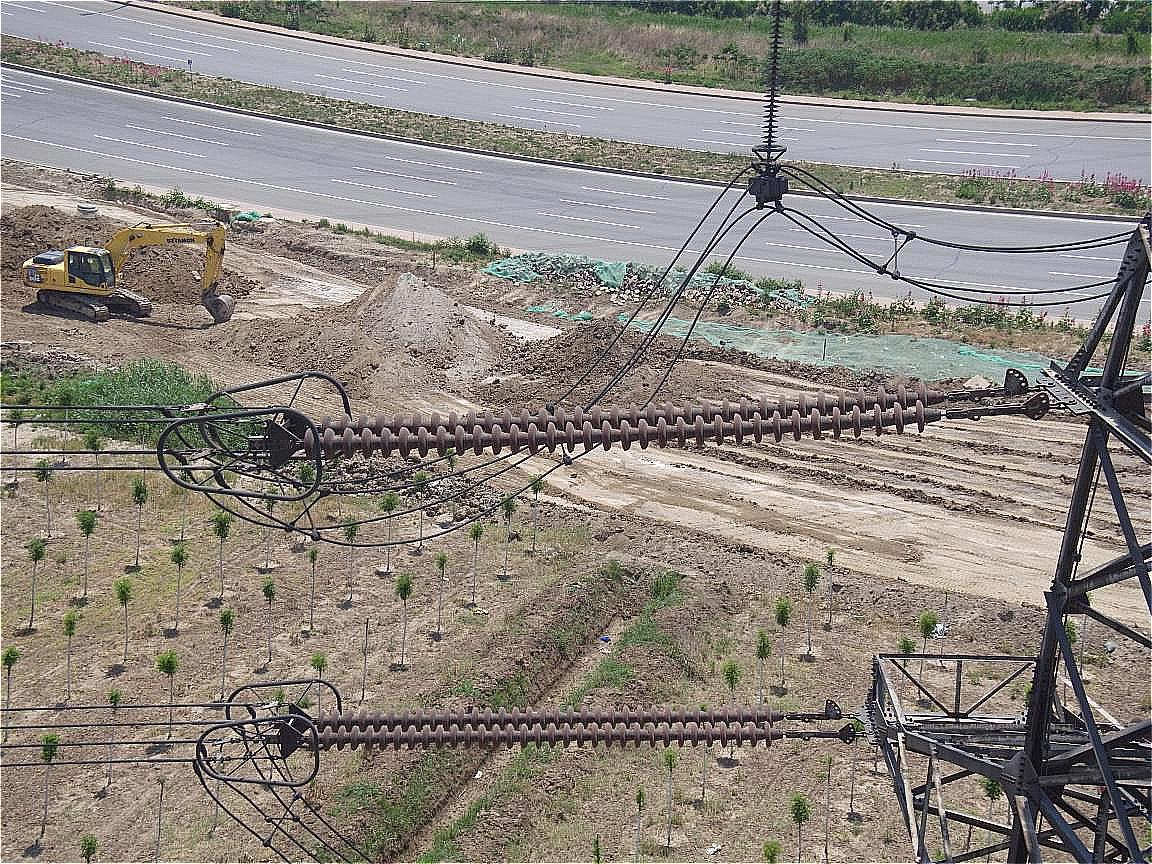insultor1: (303, 382, 934, 461), (317, 705, 777, 753)
